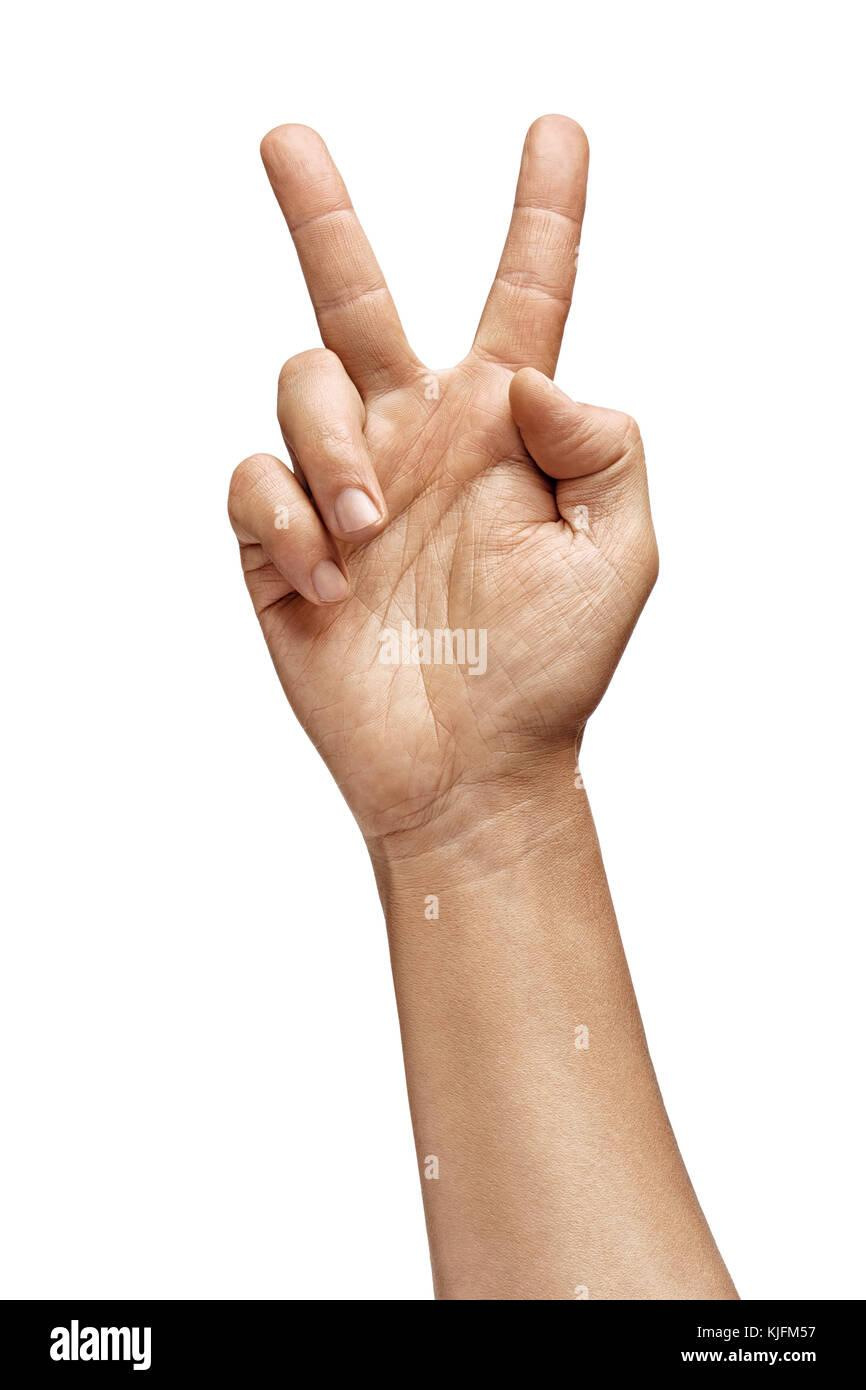peace_sign: (198, 88, 701, 858)
